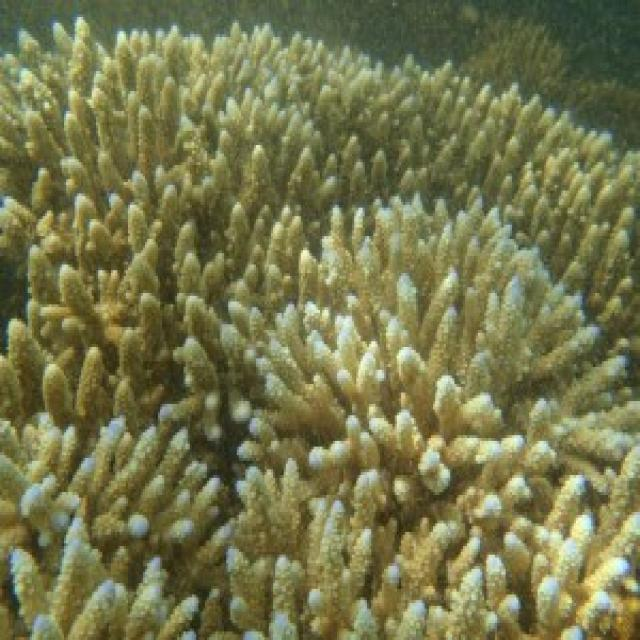Healthy: (4, 14, 640, 639)
